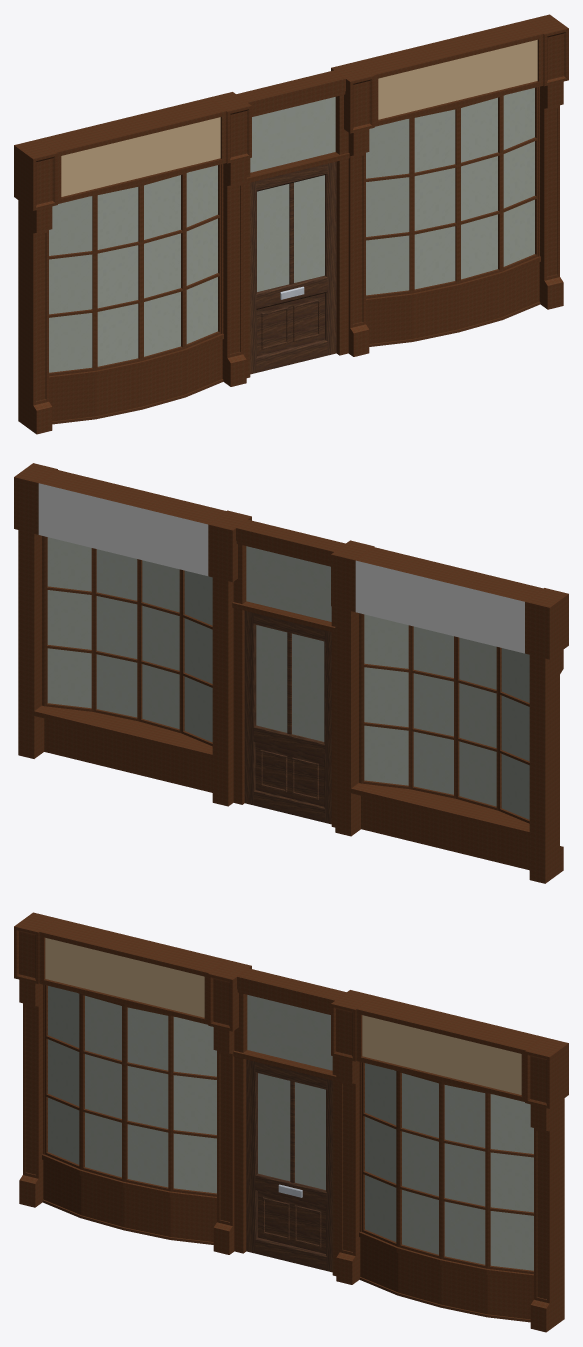
The model's file is victorian+shop+front.glb.
3 views of the same model, one above another, from view 1: azimuth 30°, elevation 25°; view 2: azimuth 150°, elevation 25°; view 3: azimuth 330°, elevation 25° (orthographic).
Parts seen in each view (by area): view 1: _C-front (Loose Mesh).001, _C-front (Loose Mesh), C-bay.001, C-Component#1.005, C-Component#1.001, C-Component#1.004, C-Component#1, C-Component#1.006, C-Component#1.002, G-Object, C-bay, C-Component#1.003 (+12 smaller); view 2: _C-front (Loose Mesh).001, _C-front (Loose Mesh), C-bay.001, C-Component#1.003, C-Component#1.007, C-Component#1.006, C-Component#1.002, G-Object, C-bay.002, C-bay, C-Component#1.001, C-Component#1.005 (+12 smaller); view 3: _C-front (Loose Mesh), _C-front (Loose Mesh).001, C-bay.002, C-Component#1.002, C-Component#1.006, C-Component#1.003, C-Component#1.007, C-Component#1.001, C-Component#1.005, G-Object.001, C-bay.003, C-Component#1 (+12 smaller).
Part boxes in pixels (x1,y1,x2,y2): _C-front (Loose Mesh).001: (356, 20, 543, 346); _C-front (Loose Mesh): (39, 98, 226, 424); C-bay.001: (14, 139, 57, 434); C-Component#1.005: (412, 106, 458, 293); C-Component#1.001: (95, 184, 141, 370); C-Component#1.004: (366, 118, 412, 298); C-Component#1: (49, 195, 95, 376); C-Component#1.006: (458, 96, 501, 283); C-Component#1.002: (141, 173, 184, 360); G-Object: (285, 70, 349, 355); C-bay: (208, 92, 251, 386); C-Component#1.003: (184, 164, 221, 348); _C-front (Loose Mesh).001: (34, 470, 225, 792); _C-front (Loose Mesh): (351, 547, 542, 870); C-bay.001: (525, 588, 568, 883); C-Component#1.003: (361, 613, 410, 789); C-Component#1.007: (44, 536, 93, 711); C-Component#1.006: (93, 548, 139, 721); C-Component#1.002: (410, 626, 455, 798); G-Object: (232, 519, 296, 804); C-bay.002: (14, 463, 57, 758); C-bay: (331, 540, 374, 836); C-Component#1.001: (456, 637, 498, 810); C-Component#1.005: (139, 559, 181, 732); _C-front (Loose Mesh): (39, 918, 226, 1244); _C-front (Loose Mesh).001: (356, 996, 543, 1322); C-bay.002: (525, 1037, 568, 1332); C-Component#1.002: (124, 1004, 170, 1191); C-Component#1.006: (441, 1082, 487, 1268); C-Component#1.003: (170, 1016, 216, 1196); C-Component#1.007: (487, 1093, 533, 1274); C-Component#1.001: (81, 994, 124, 1181); C-Component#1.005: (398, 1071, 441, 1258); G-Object.001: (233, 968, 297, 1253); C-bay.003: (331, 990, 374, 1284); C-Component#1: (44, 985, 81, 1169).
Size of the model in its own units: 6 by 2.97 by 0.3814.
Materials: 6 (4 with a texture image).
